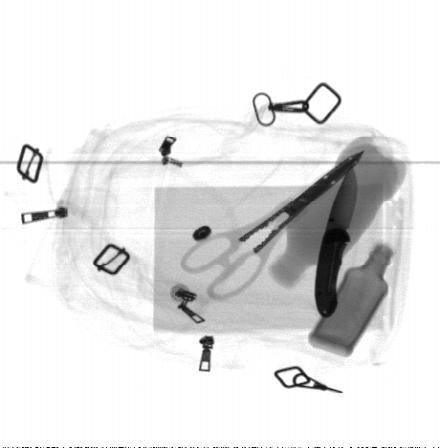Knife: (316, 163, 357, 320)
Scissors: (179, 149, 366, 302)
